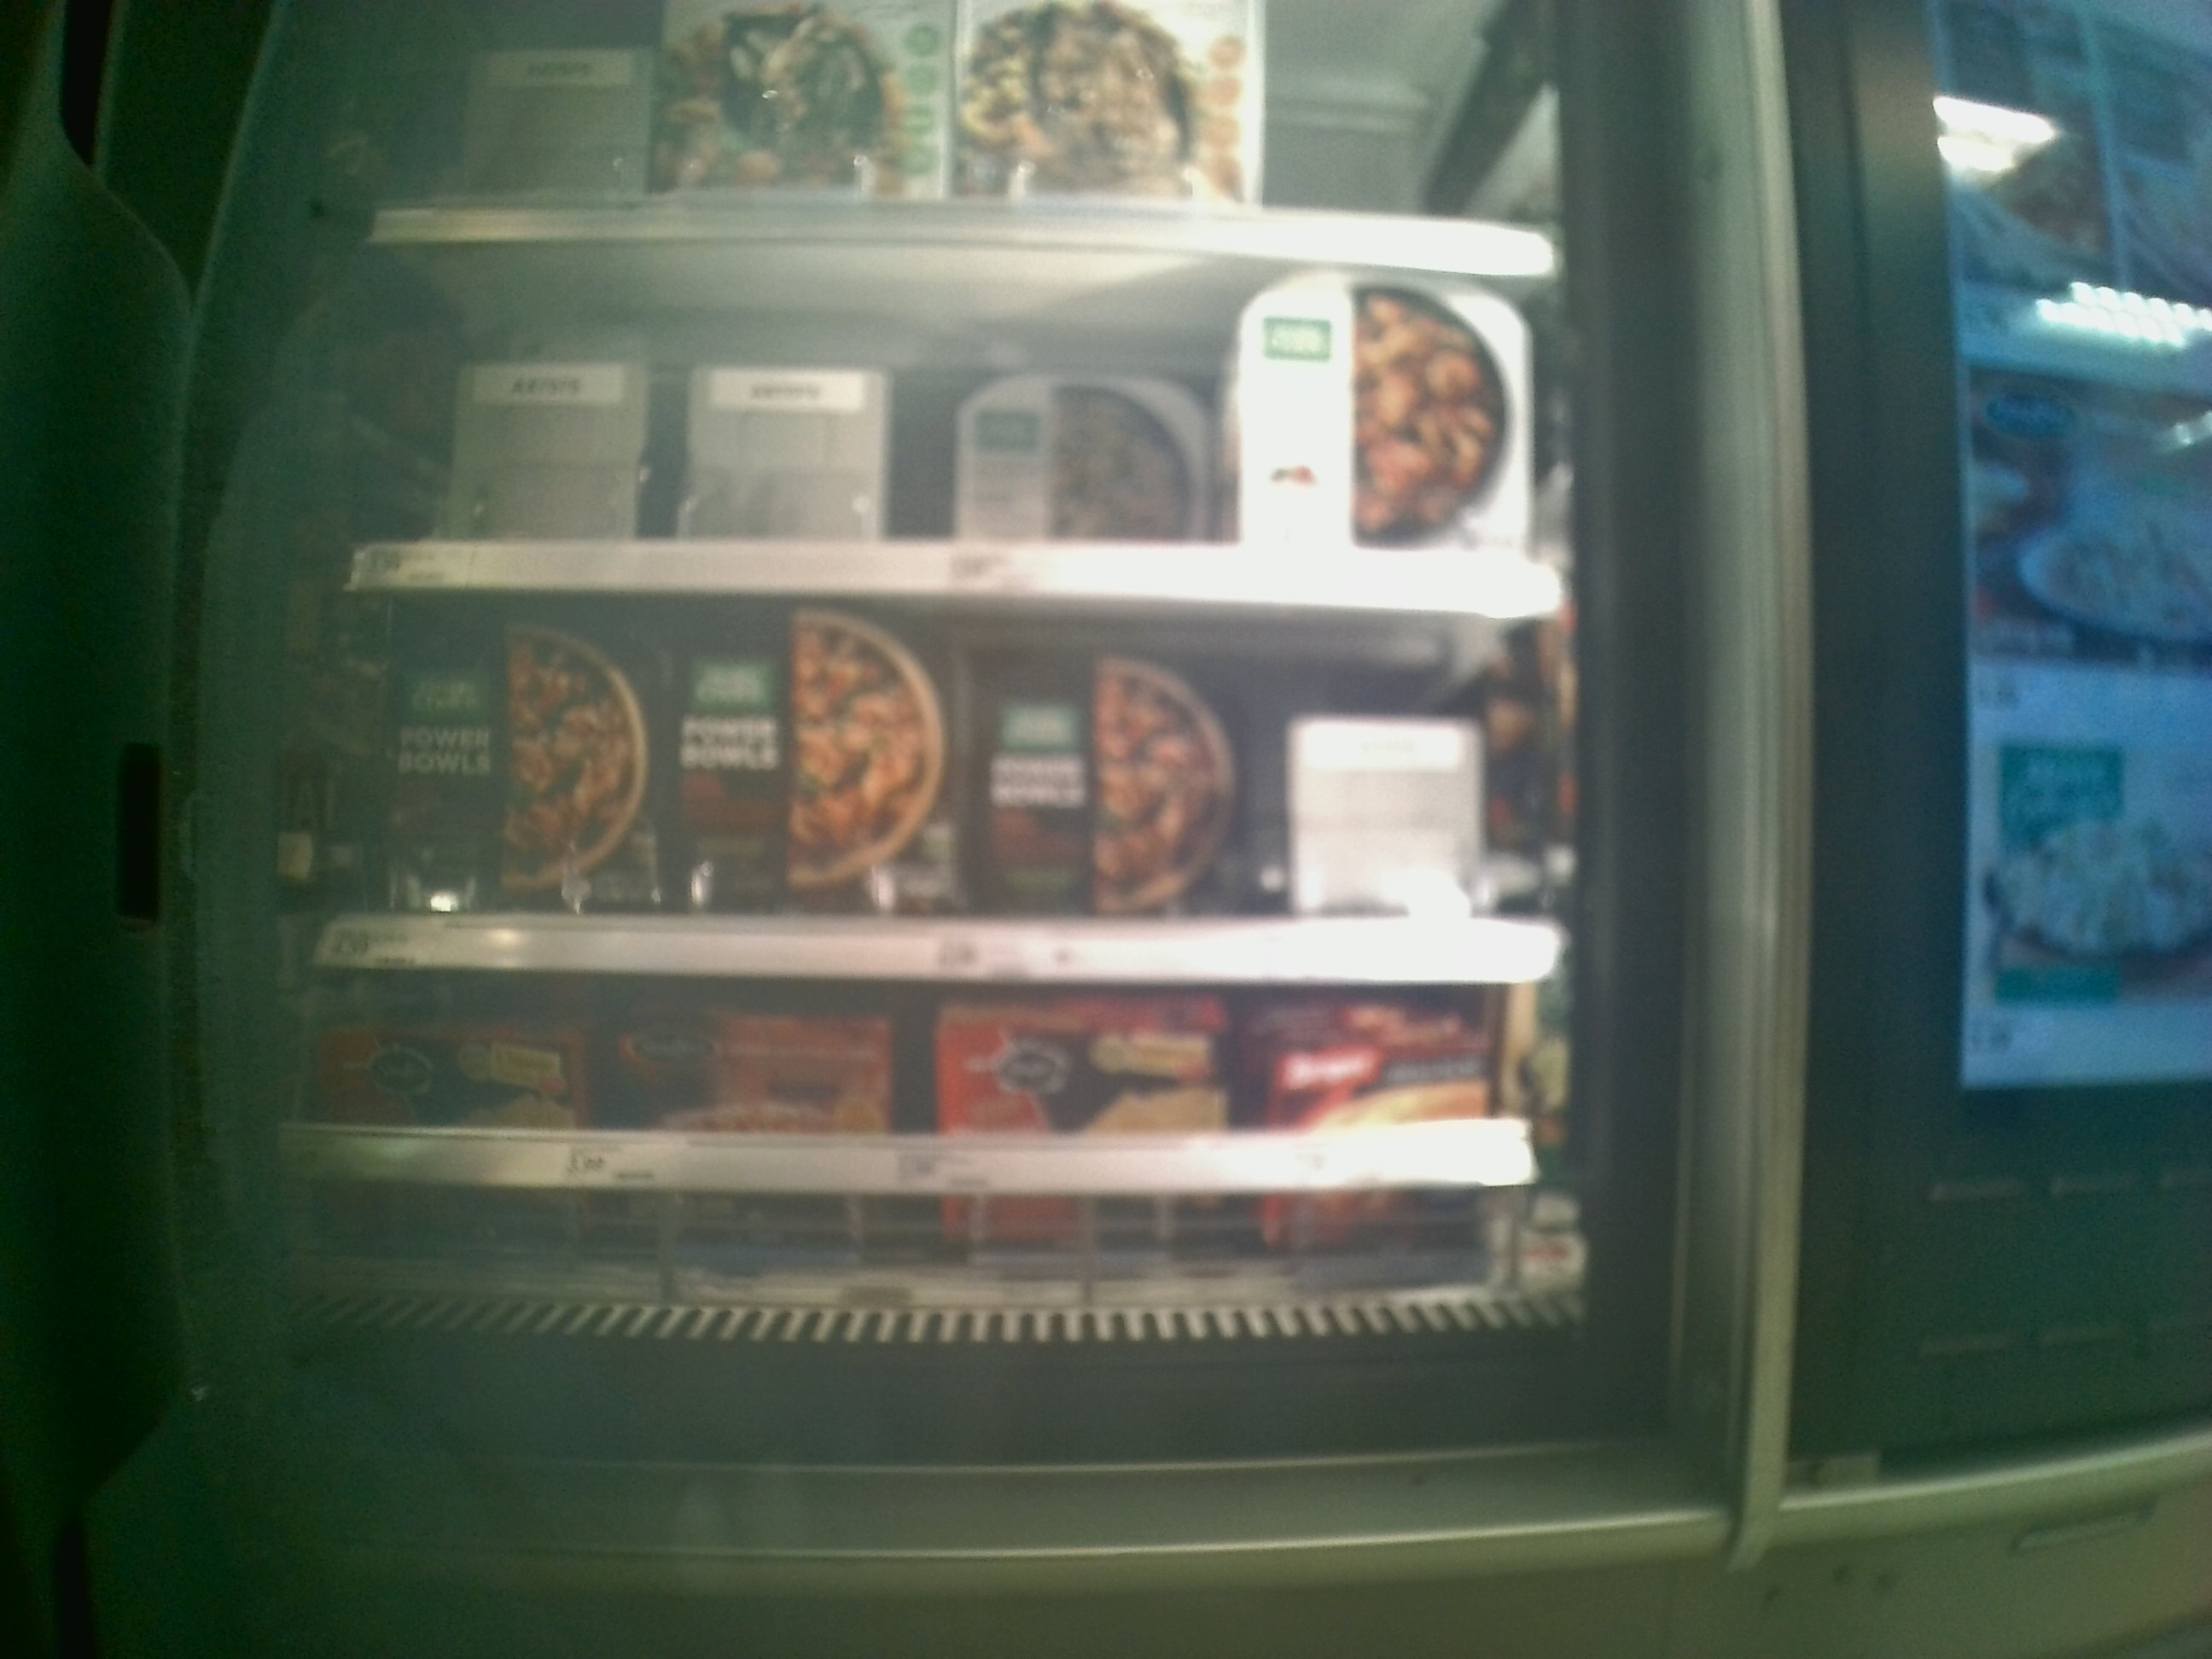shelf: (336, 586, 1576, 983), (284, 964, 1601, 1326), (355, 247, 1555, 613)
